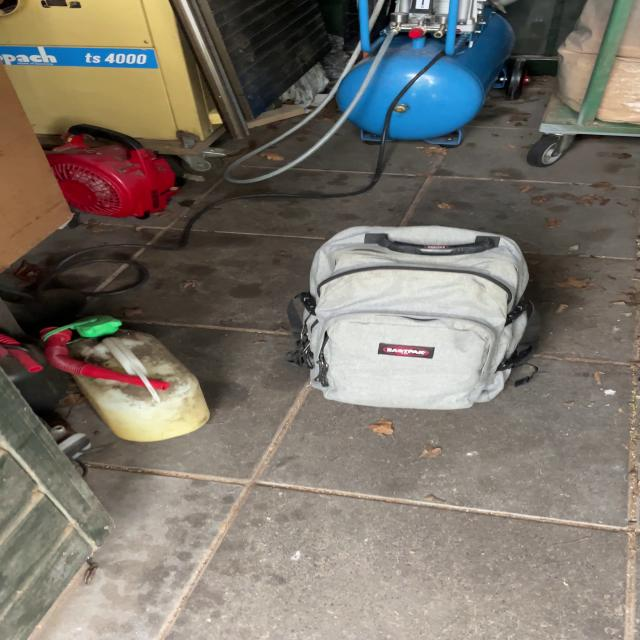backpack: (276, 218, 551, 416)
